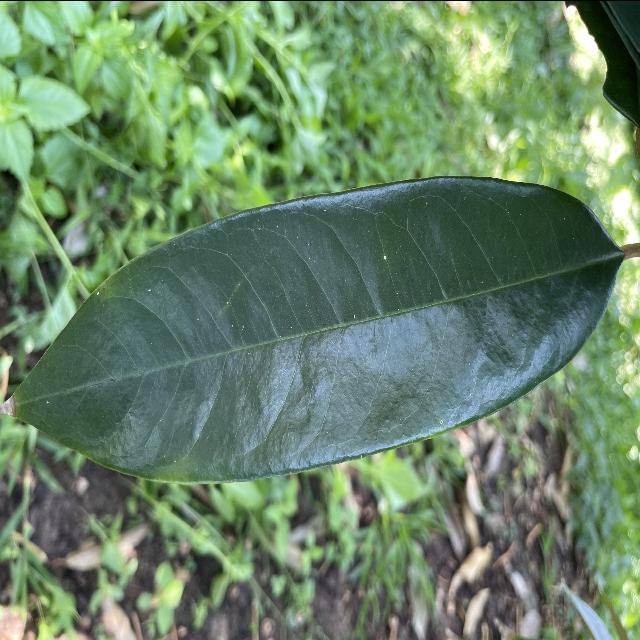No Disease: (0, 167, 627, 494)
